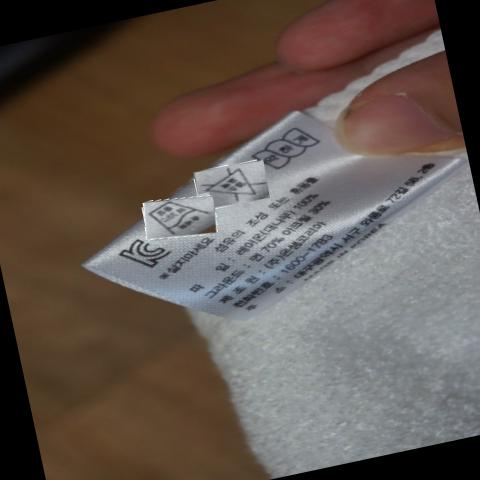hand_wash: (150, 194, 212, 237)
non_chlorine_bleach: (207, 161, 264, 201)
wring: (259, 121, 315, 169)
